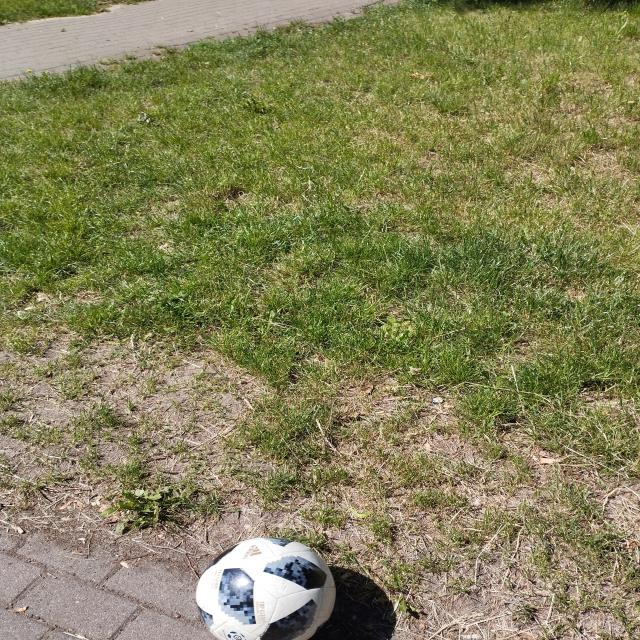nozna: (195, 536, 336, 640)
